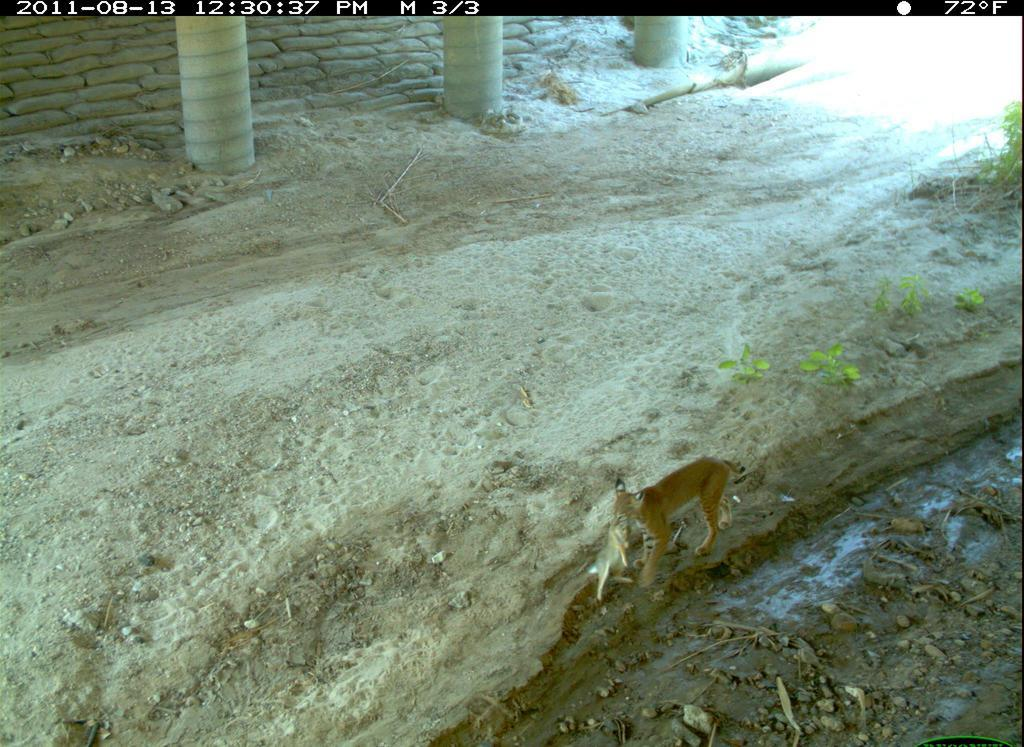bobcat: (591, 432, 752, 609)
